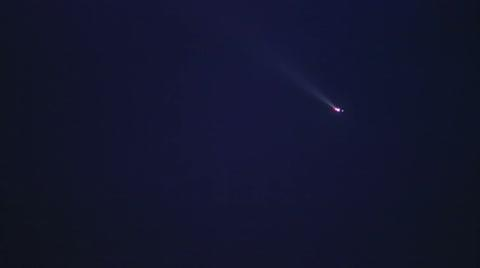Plane: (268, 65, 365, 125)
